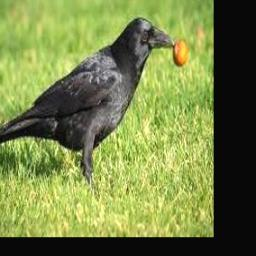Crow: (0, 16, 176, 184)
